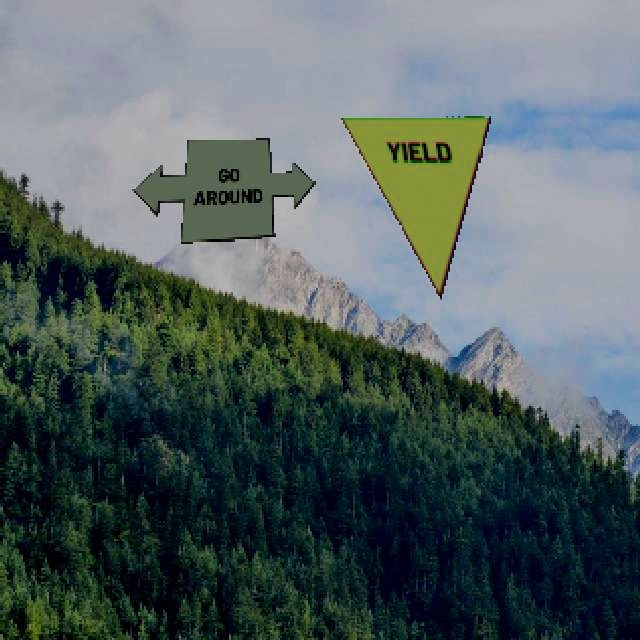GO_AROUND: (131, 137, 314, 242)
YIELD: (339, 115, 490, 298)
